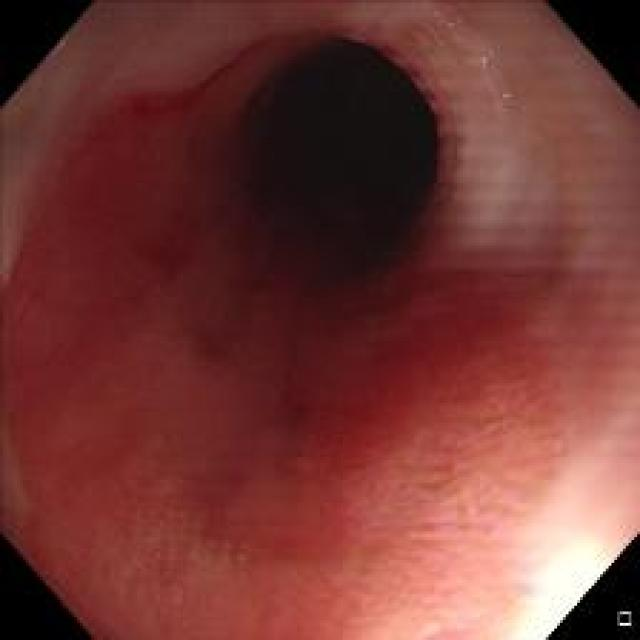blur: (9, 91, 359, 636)
color misalignment: (432, 8, 470, 29)
contrast: (221, 36, 441, 286)
saturation: (521, 542, 611, 638)
